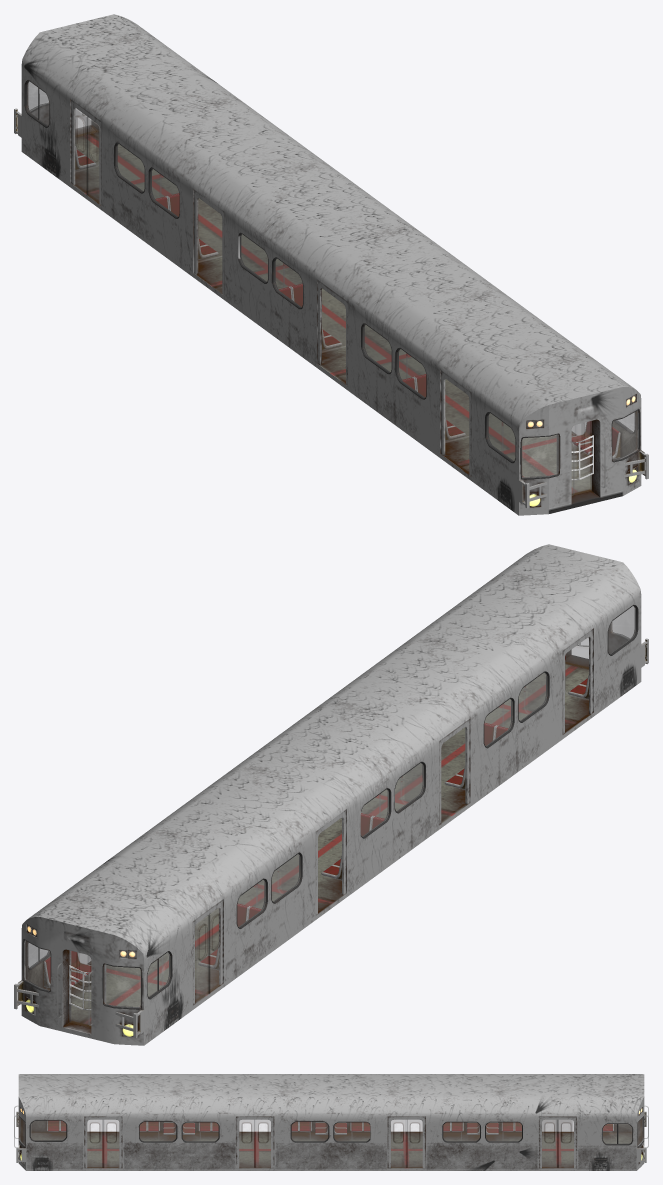
The model's file is subway_car.glb.
3 views of the same model, one above another, from view 1: azimuth 30°, elevation 25°; view 2: azimuth 150°, elevation 25°; view 3: azimuth 270°, elevation 25° (orthographic). The views are drawn at different scales.
Visible parts, largest first — view 1: body003_Body_0, body003_windows_0, body003_rails_0, body003_side_door_0, body003_side_chair_0, body003_front_door_0, body003_guard_0, body003_Vert_chair_0; view 2: body003_Body_0, body003_windows_0, body003_side_door_0, body003_front_door_0, body003_side_chair_0, body003_rails_0, body003_guard_0, body003_Vert_chair_0; view 3: body003_Body_0, body003_side_door_0, body003_windows_0, body003_side_chair_0, body003_Vert_chair_0, body003_guard_0, body003_rails_0.
Boxes of the visible parts, x1=… form: body003_Body_0: x1=21, y1=14, x2=641, y2=515; body003_windows_0: x1=27, y1=81, x2=638, y2=477; body003_rails_0: x1=75, y1=164, x2=605, y2=495; body003_side_door_0: x1=74, y1=109, x2=585, y2=435; body003_side_chair_0: x1=75, y1=146, x2=620, y2=476; body003_front_door_0: x1=75, y1=108, x2=591, y2=494; body003_guard_0: x1=14, y1=108, x2=648, y2=508; body003_Vert_chair_0: x1=155, y1=193, x2=426, y2=397; body003_Body_0: x1=21, y1=544, x2=641, y2=1045; body003_windows_0: x1=24, y1=606, x2=635, y2=1007; body003_side_door_0: x1=78, y1=907, x2=222, y2=1002; body003_front_door_0: x1=69, y1=637, x2=588, y2=1027; body003_side_chair_0: x1=43, y1=675, x2=588, y2=1006; body003_rails_0: x1=57, y1=655, x2=588, y2=1025; body003_guard_0: x1=14, y1=638, x2=648, y2=1038; body003_Vert_chair_0: x1=237, y1=723, x2=508, y2=926; body003_Body_0: x1=18, y1=1074, x2=644, y2=1170; body003_side_door_0: x1=87, y1=1119, x2=573, y2=1167; body003_windows_0: x1=19, y1=1117, x2=643, y2=1145; body003_side_chair_0: x1=47, y1=1120, x2=613, y2=1131; body003_Vert_chair_0: x1=163, y1=1122, x2=498, y2=1134; body003_guard_0: x1=16, y1=1111, x2=646, y2=1162; body003_rails_0: x1=14, y1=1106, x2=648, y2=1147.
Size of the model in its own units: 230 by 194 by 1665.
Materials: 10 (9 with a texture image).
